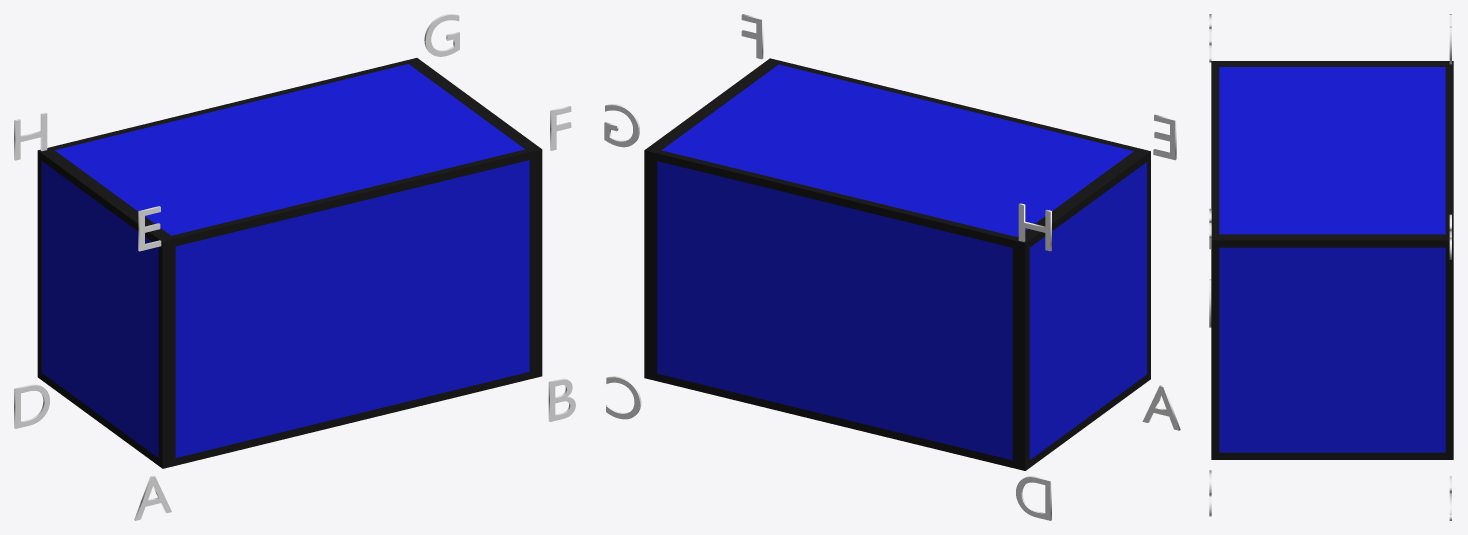
Rendered from Balok.fbx.
3 views of the same model, side by side, from view 1: azimuth 30°, elevation 25°; view 2: azimuth 150°, elevation 25°; view 3: azimuth 270°, elevation 25° (orthographic). The views are drawn at different scales.
Visible parts, largest first — view 1: Cube.004, Text.039, Text.042, Text.036, Text.040, Text.043; view 2: Cube.004, Text.042, Text.036, Text.040; view 3: Cube.004.
Part boxes in pixels (bbox=[...]): Cube.004: bbox=[37, 58, 542, 468]; Text.039: bbox=[548, 378, 575, 421]; Text.042: bbox=[14, 384, 49, 428]; Text.036: bbox=[424, 14, 459, 56]; Text.040: bbox=[14, 112, 47, 160]; Text.043: bbox=[134, 475, 171, 520]; Cube.004: bbox=[644, 58, 1150, 470]; Text.042: bbox=[1016, 476, 1051, 520]; Text.036: bbox=[604, 104, 639, 147]; Text.040: bbox=[1018, 203, 1051, 251]; Cube.004: bbox=[1211, 61, 1453, 459].
Bounding box in the file's own units: 414 × 274 × 202.
